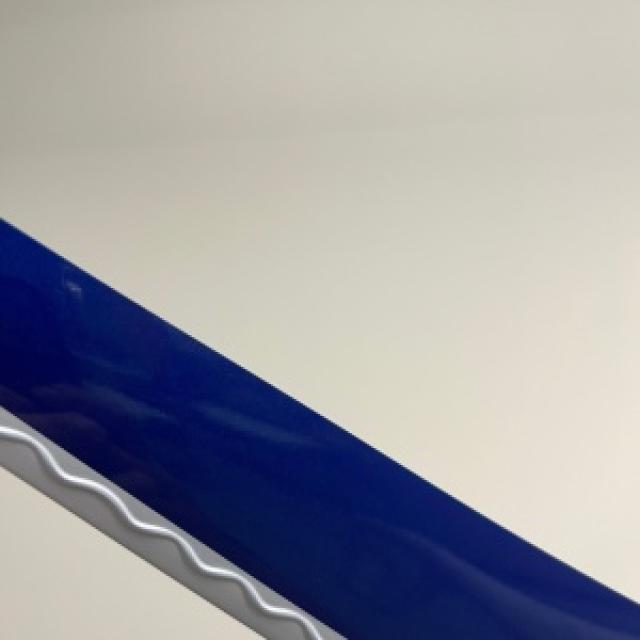healthy: (0, 218, 638, 638)
